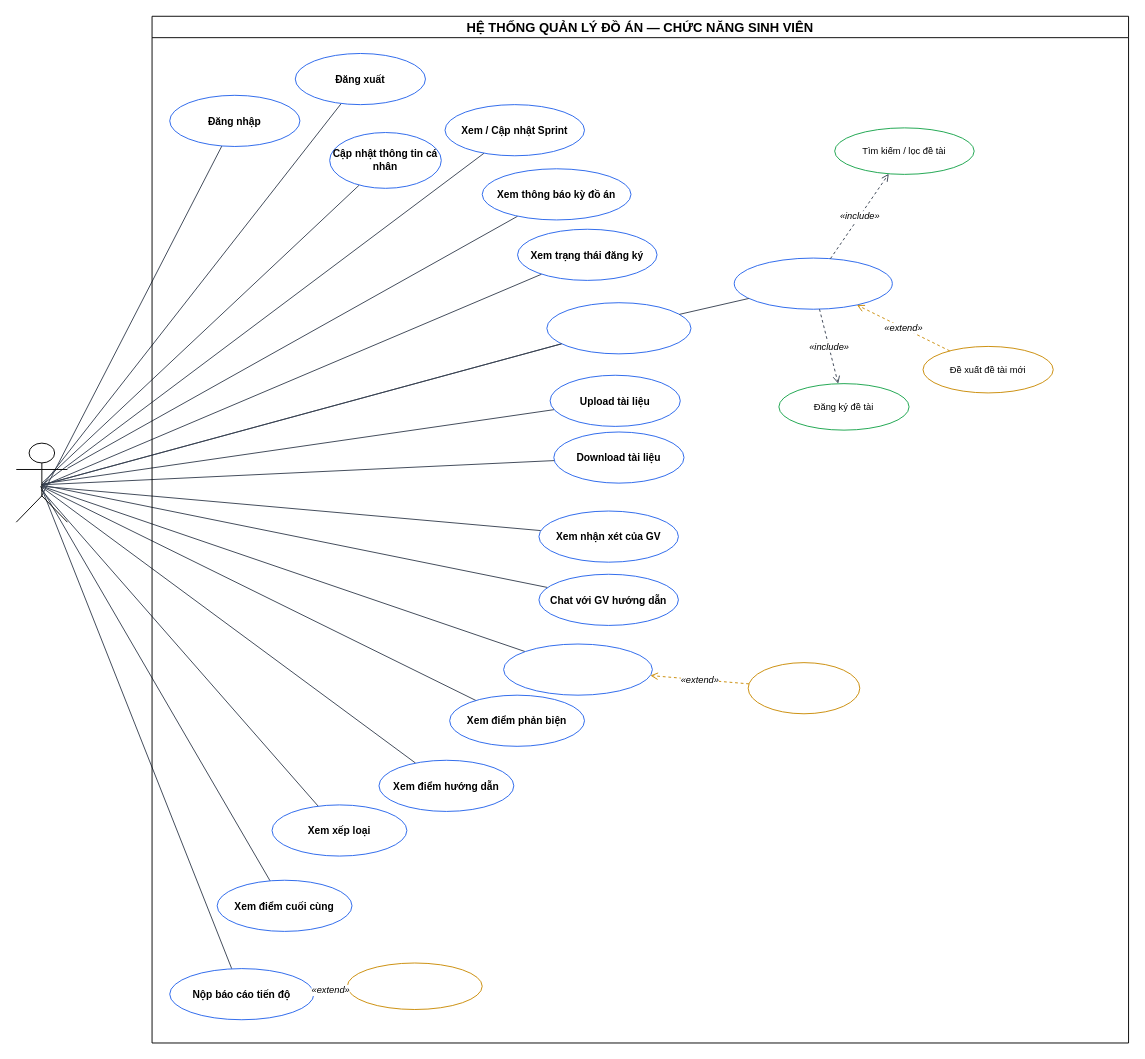
Some shapes in this 1145 by 1059 pixel diagram are drawn without their labels. The shapes that lost their labels are listed below. From the top down, each one's centre as x and y in pixels, then its label:
At pixel 812 283: "Xem danh sách đề tài đã duyệt".
At pixel 618 328: "Xem thông tin đồ án".
At pixel 41 482: "Sinh viên".
At pixel 577 669: "Nhận thông báo hệ thống".
At pixel 803 688: "Đánh dấu đã đọc".
At pixel 414 986: "Upload file báo cáo".
